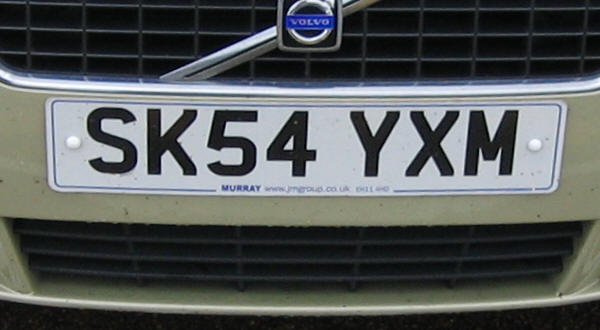license_plate: (46, 100, 561, 192)
